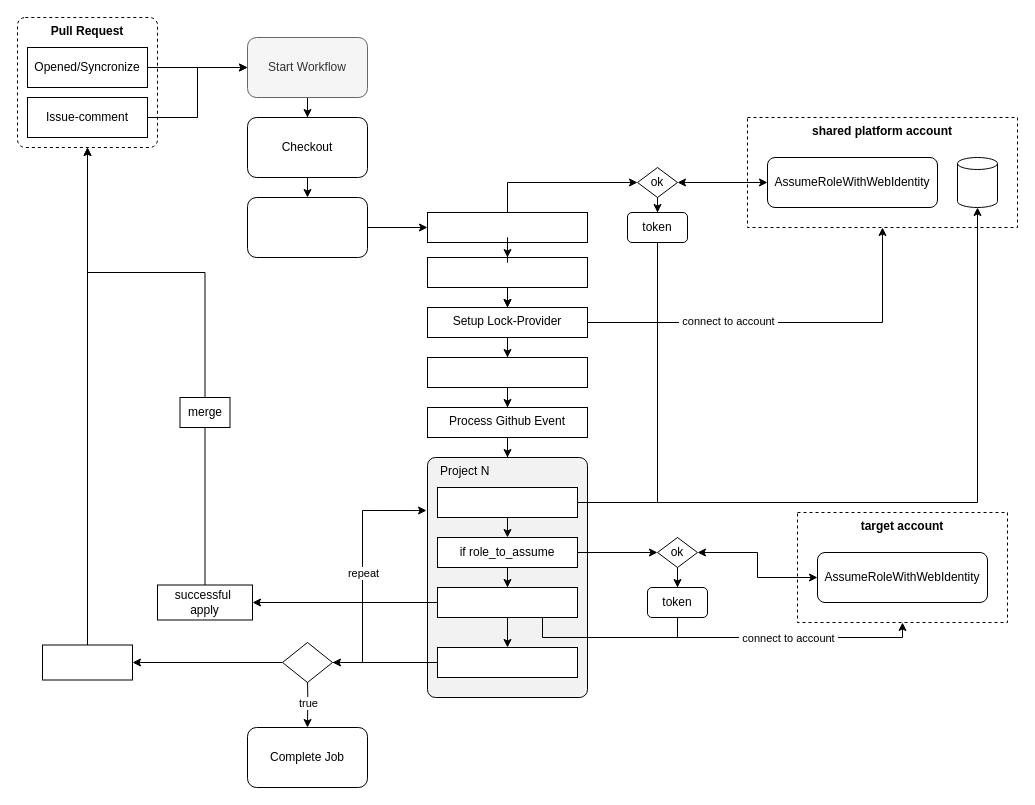
Image size: 1035x805. Some labels were removed from this diagram. Each missing label, with the centre of its shape:
"Assuming role with OIDC" belongs at [507,227].
"comment" belongs at [87,662].
"digger command" belongs at [507,602].
"Digger Run" belongs at [307,227].
"done" belongs at [307,662].
"export commands" belongs at [507,662].
"Install Digger" belongs at [507,272].
"lock table" belongs at [977,182].
"lock/unlock project" belongs at [507,502].
"Parse Digger Config" belongs at [507,372].
